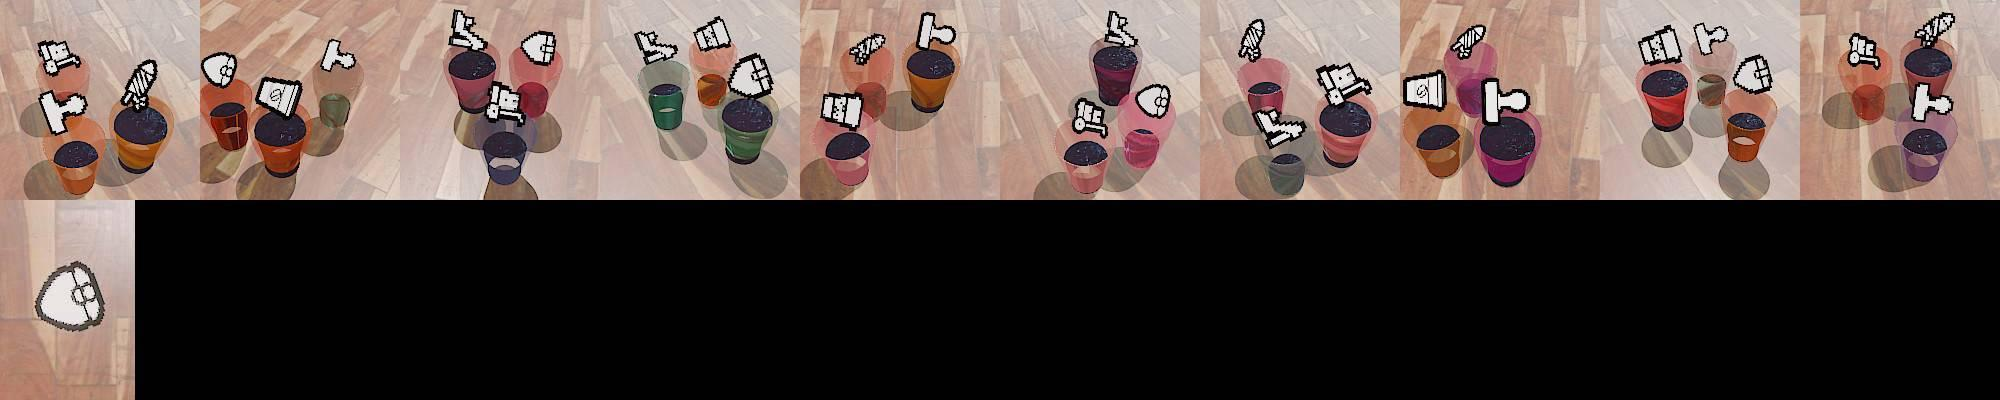icon: (32, 261, 107, 334), (1480, 76, 1533, 125), (1316, 61, 1371, 107), (38, 89, 90, 134), (727, 52, 774, 100), (1253, 105, 1304, 149), (255, 75, 303, 121), (483, 79, 528, 125), (119, 60, 158, 113), (1404, 69, 1448, 112), (1637, 24, 1683, 65), (820, 89, 864, 130), (914, 11, 957, 52), (1732, 53, 1773, 95), (449, 9, 488, 52), (1911, 81, 1954, 119), (634, 29, 679, 65), (692, 14, 733, 53), (37, 39, 80, 76), (1071, 96, 1110, 136), (1915, 11, 1956, 49), (1450, 22, 1488, 60), (1134, 82, 1172, 119), (1102, 10, 1136, 51), (520, 31, 559, 66), (201, 51, 237, 88), (848, 32, 886, 66), (319, 38, 357, 72), (1846, 32, 1880, 69), (1237, 18, 1265, 62), (1694, 22, 1728, 57)
